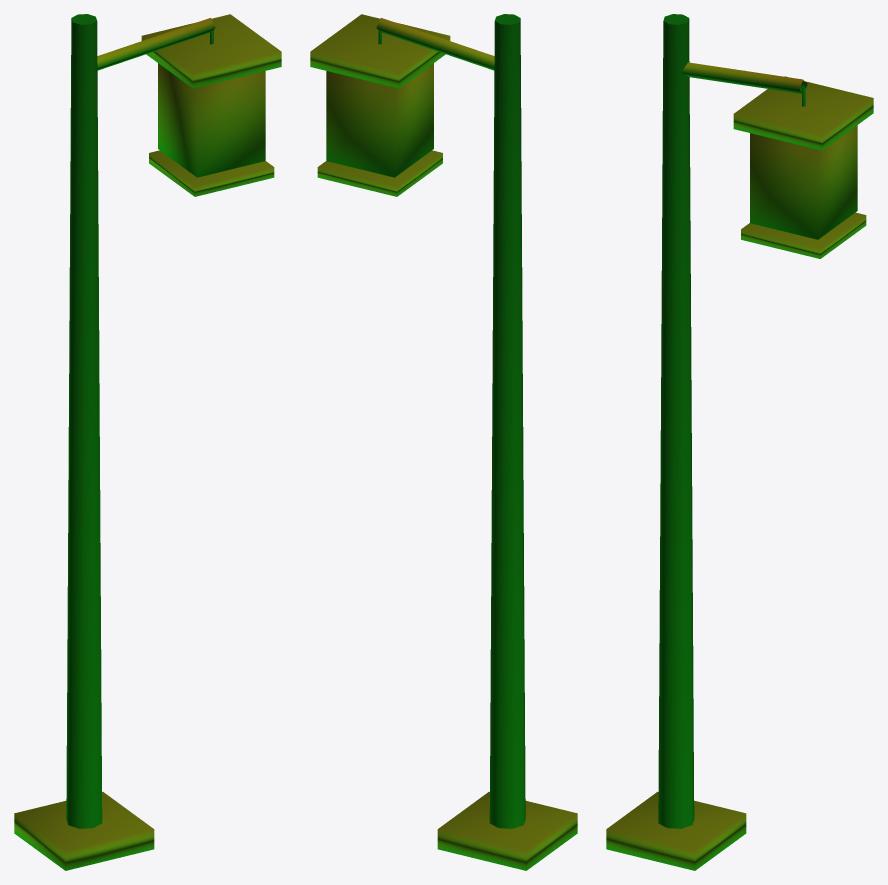
The model's file is hm_signal_lamp.glb.
3 views of the same model, side by side, from view 1: azimuth 30°, elevation 25°; view 2: azimuth 150°, elevation 25°; view 3: azimuth 330°, elevation 25° (orthographic).
Parts seen in each view (by area): view 1: hm_signal_lamp; view 2: hm_signal_lamp; view 3: hm_signal_lamp.
Boxes of the visible parts, <box> form: hm_signal_lamp: <box>14,14,281,870</box>; hm_signal_lamp: <box>310,14,577,870</box>; hm_signal_lamp: <box>606,14,873,870</box>.
Size of what is drawn, in the model's own units: 0.9331 by 3.4 by 0.3831.
